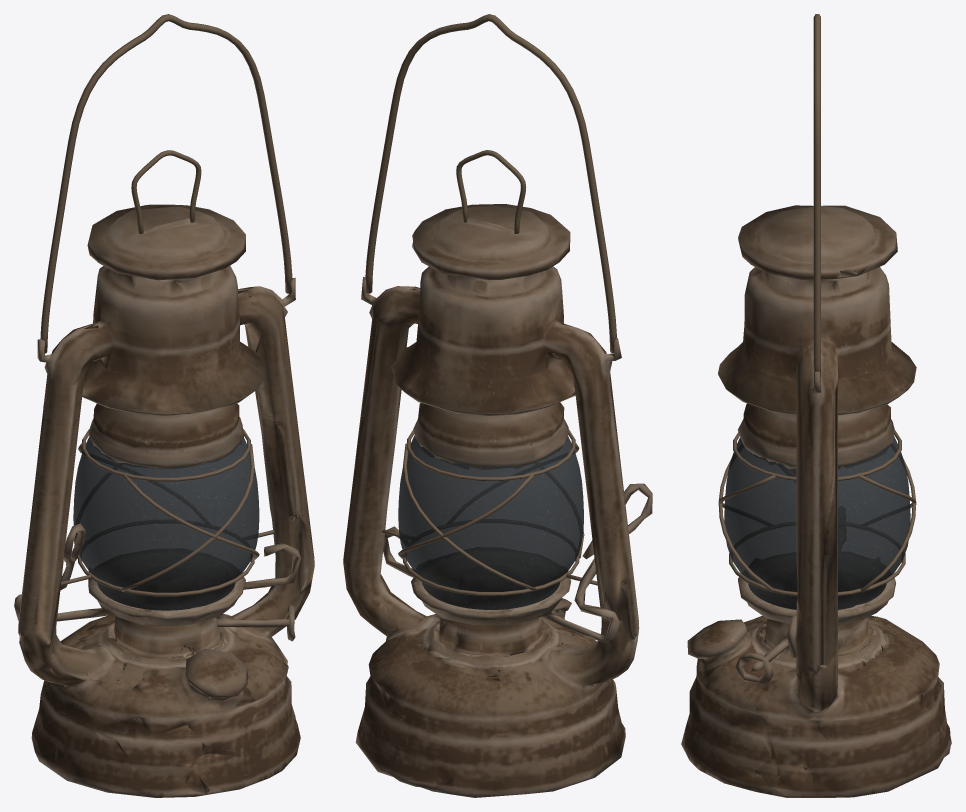
The model's file is hurricane-lantern_final.glb.
The picture shows the model from 3 angles, left to right: view 1: azimuth 30°, elevation 25°; view 2: azimuth 150°, elevation 25°; view 3: azimuth 270°, elevation 25°; orthographic projection.
Visible parts, largest first — view 1: SM_HurricaneLantern, SM_HurricaneLantern_Glass; view 2: SM_HurricaneLantern, SM_HurricaneLantern_Glass; view 3: SM_HurricaneLantern, SM_HurricaneLantern_Glass.
Boxes of the visible parts, box(x1,y1,x2,y2) form: SM_HurricaneLantern: box(14, 14, 314, 797); SM_HurricaneLantern_Glass: box(73, 437, 259, 610); SM_HurricaneLantern: box(343, 14, 652, 797); SM_HurricaneLantern_Glass: box(398, 435, 583, 609); SM_HurricaneLantern: box(681, 14, 951, 797); SM_HurricaneLantern_Glass: box(724, 436, 910, 609).
Size of the model in its own units: 0.1522 by 0.3592 by 0.1211.
Materials: 2 (2 with a texture image).
